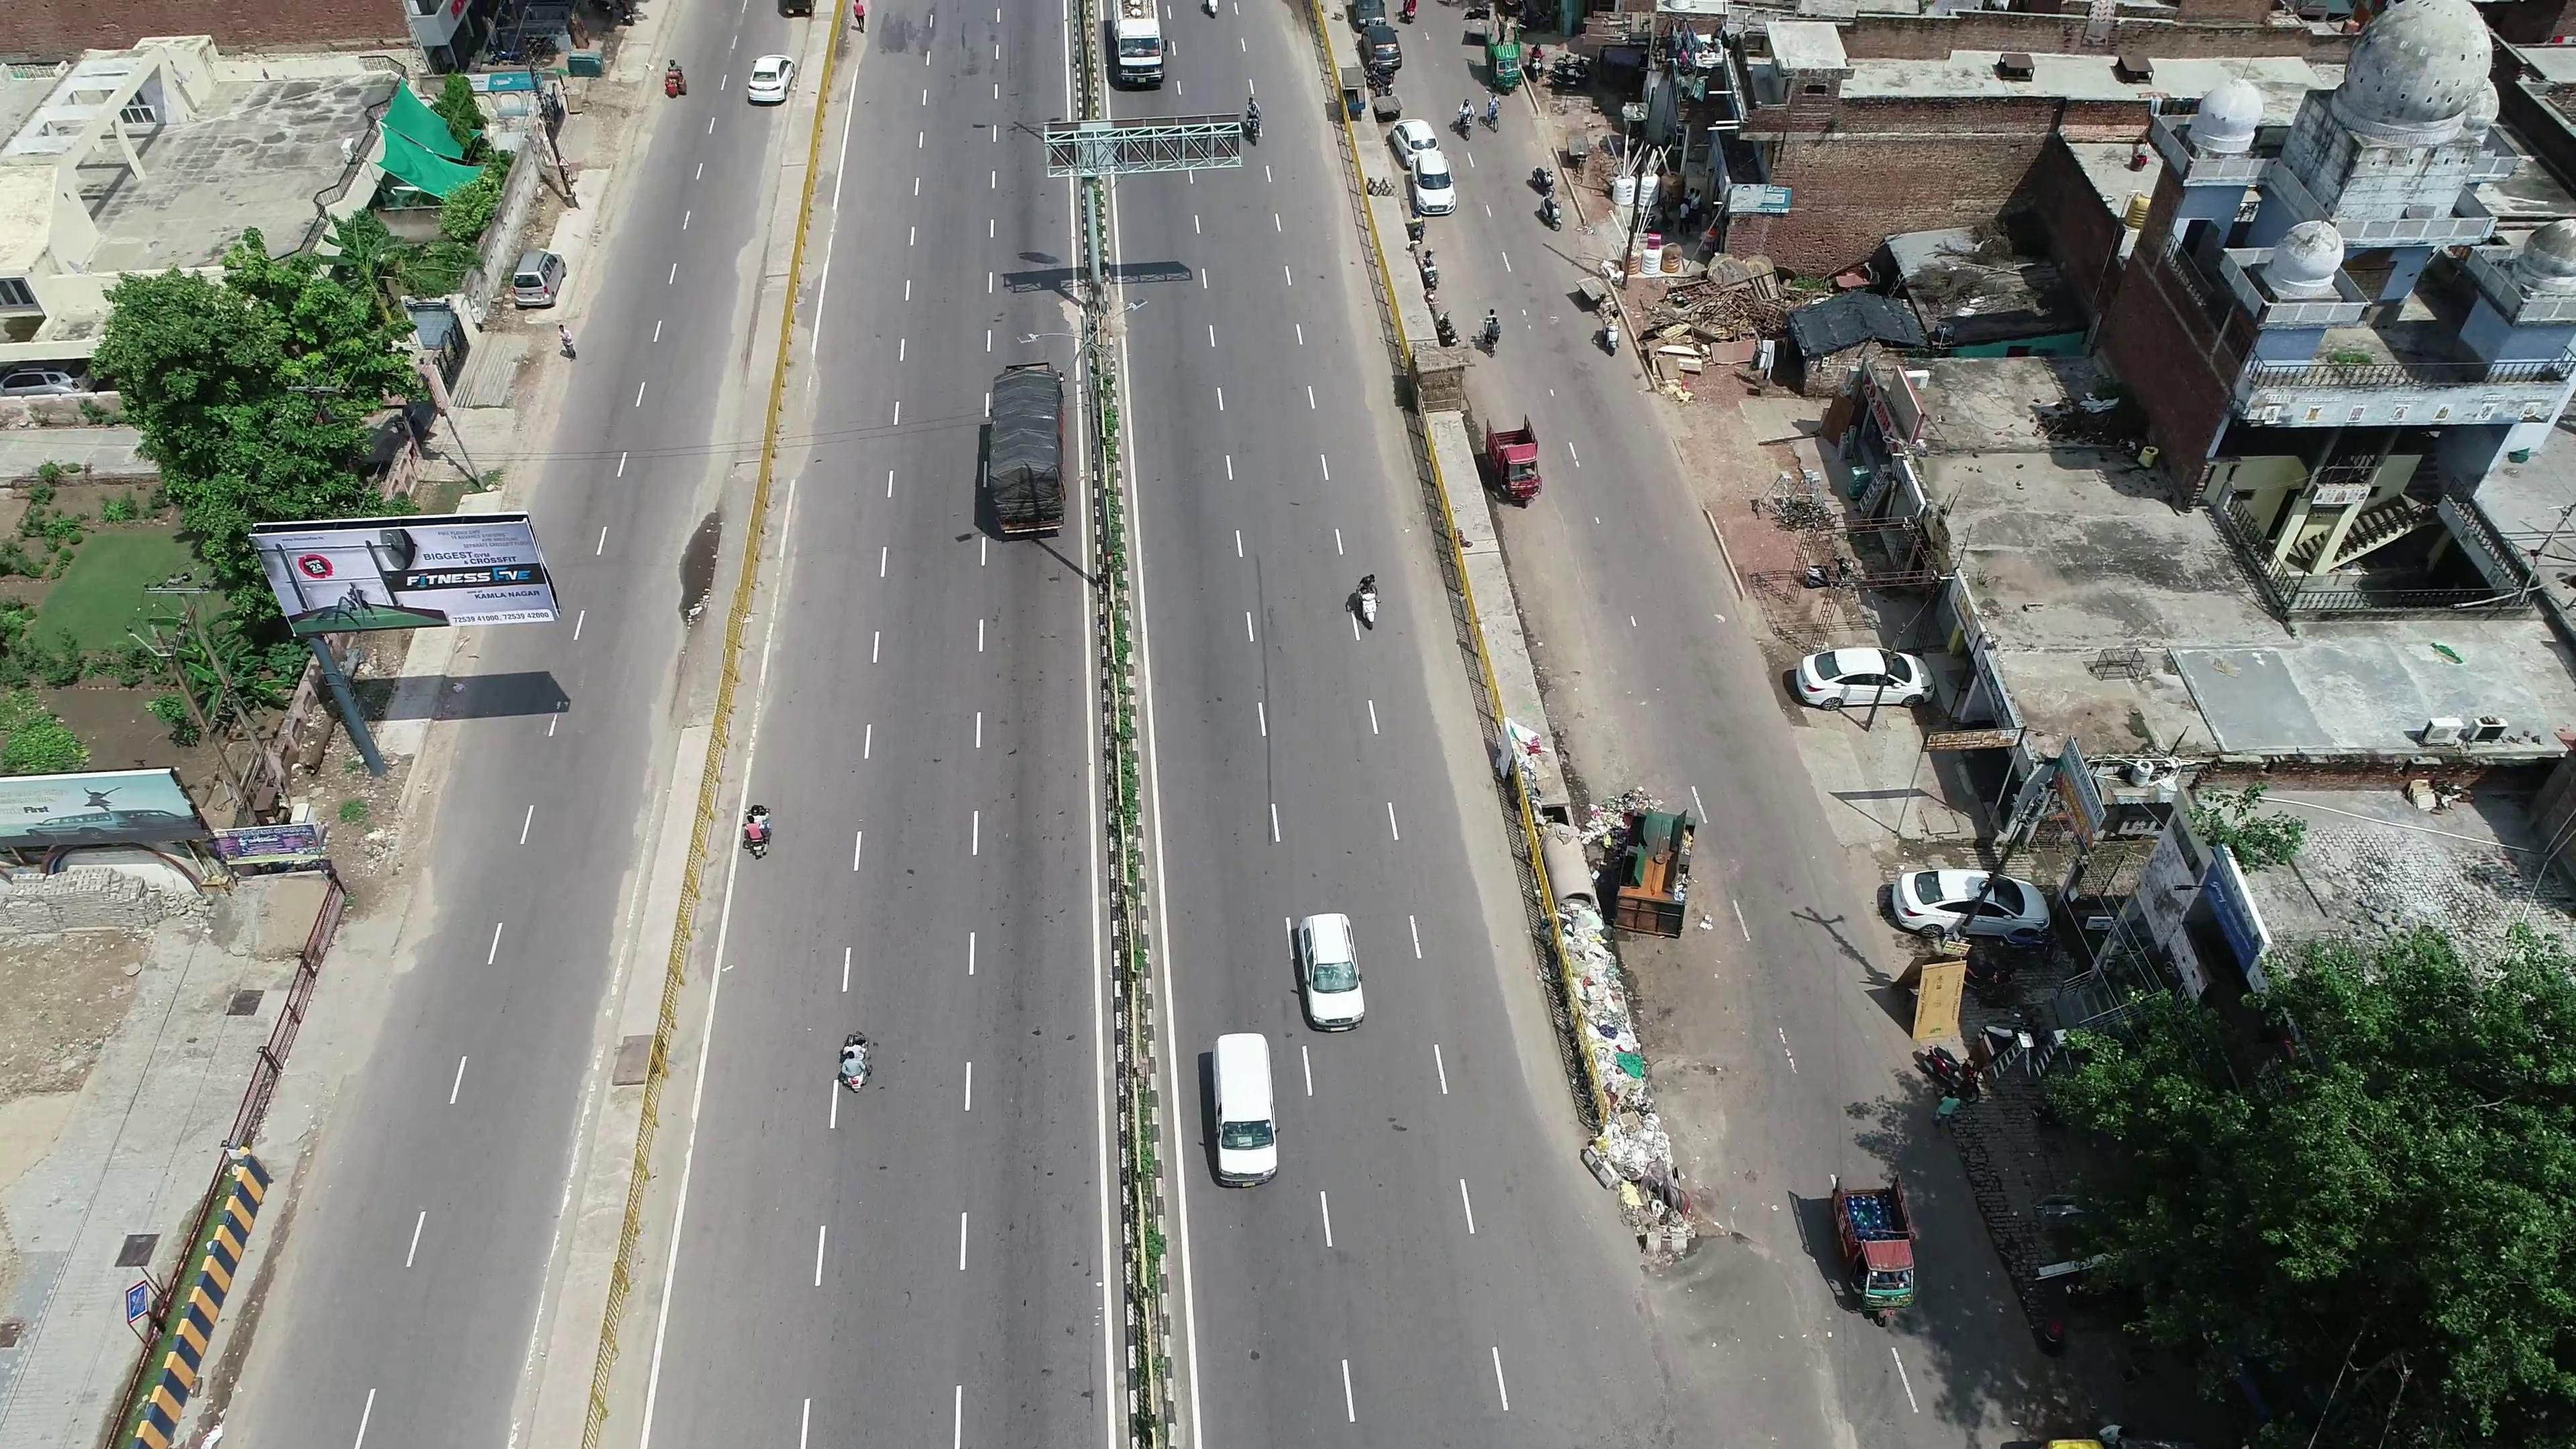Road_side_garbage: (1560, 931, 1688, 1244)
